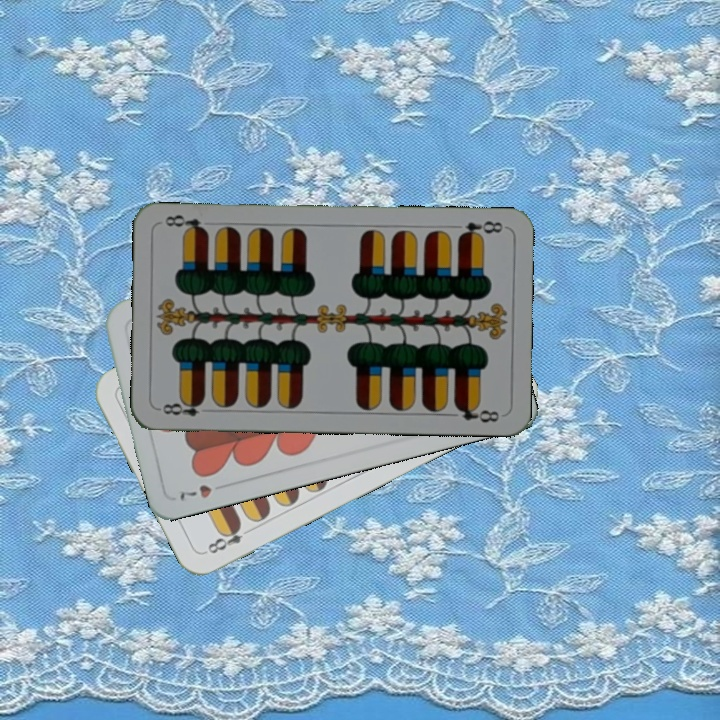E8: (201, 519, 246, 557), (454, 216, 505, 241), (155, 396, 206, 419)
H7: (174, 480, 231, 503)
